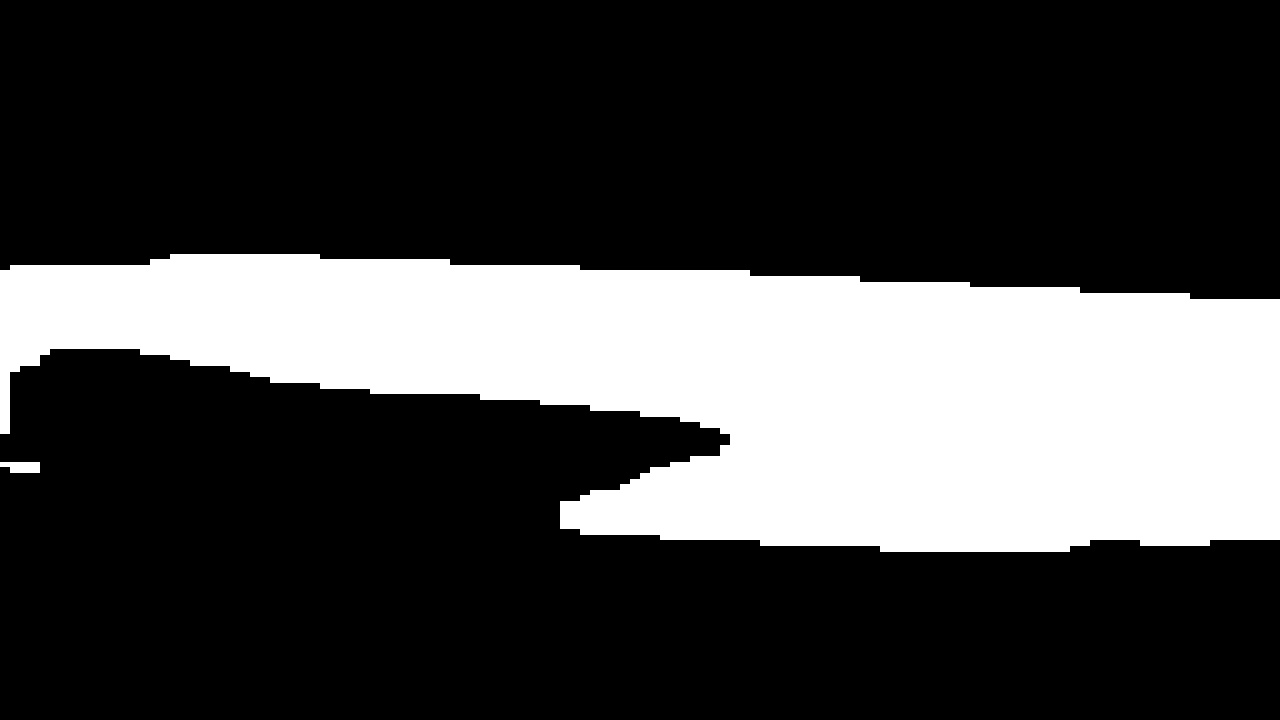Turbine: (14, 222, 1278, 573)
